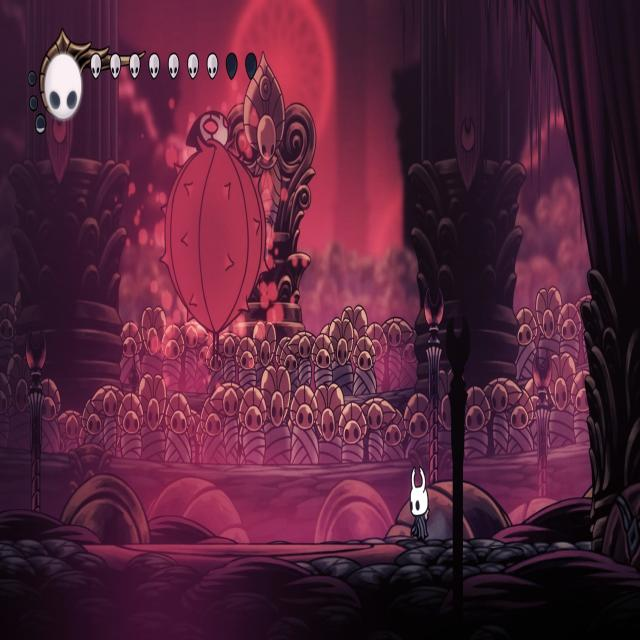Player: (409, 460, 433, 544)
Pufferfish: (156, 107, 272, 368)
